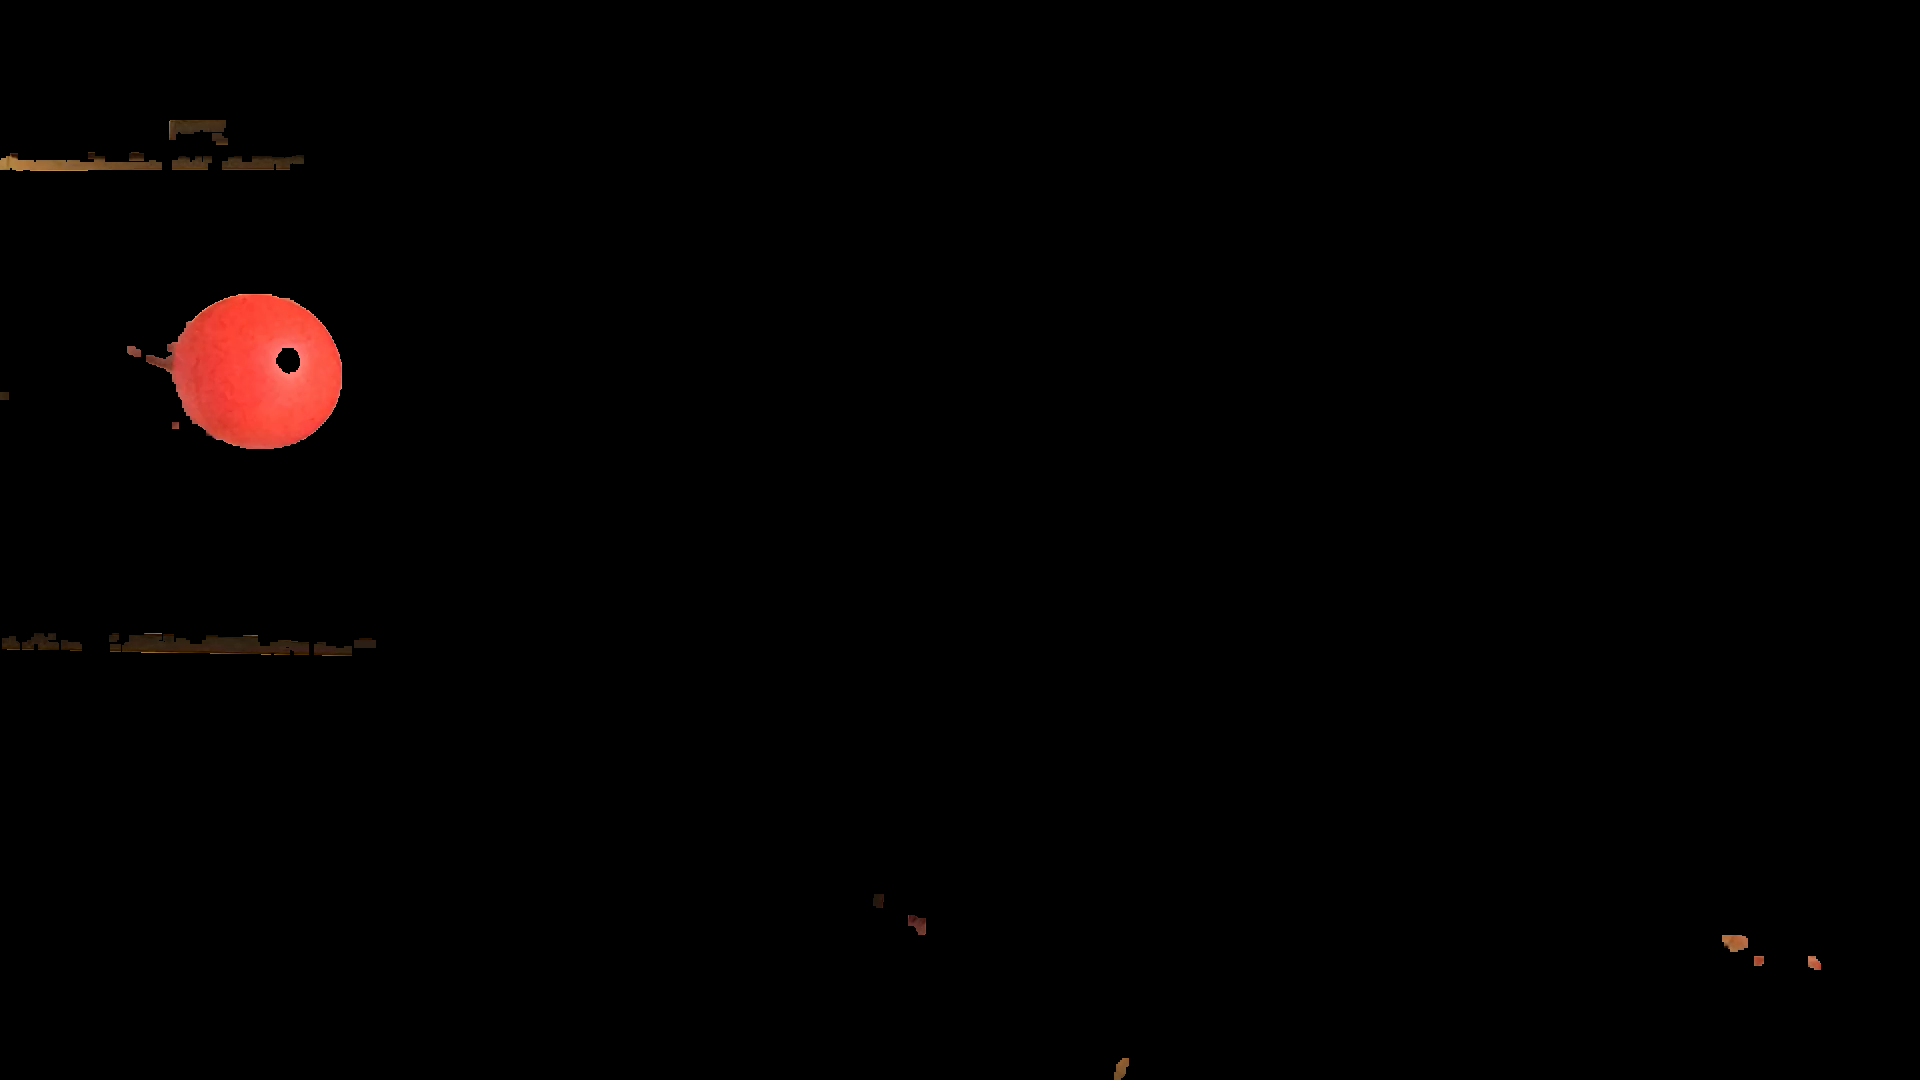Ball: (177, 290, 344, 444)
